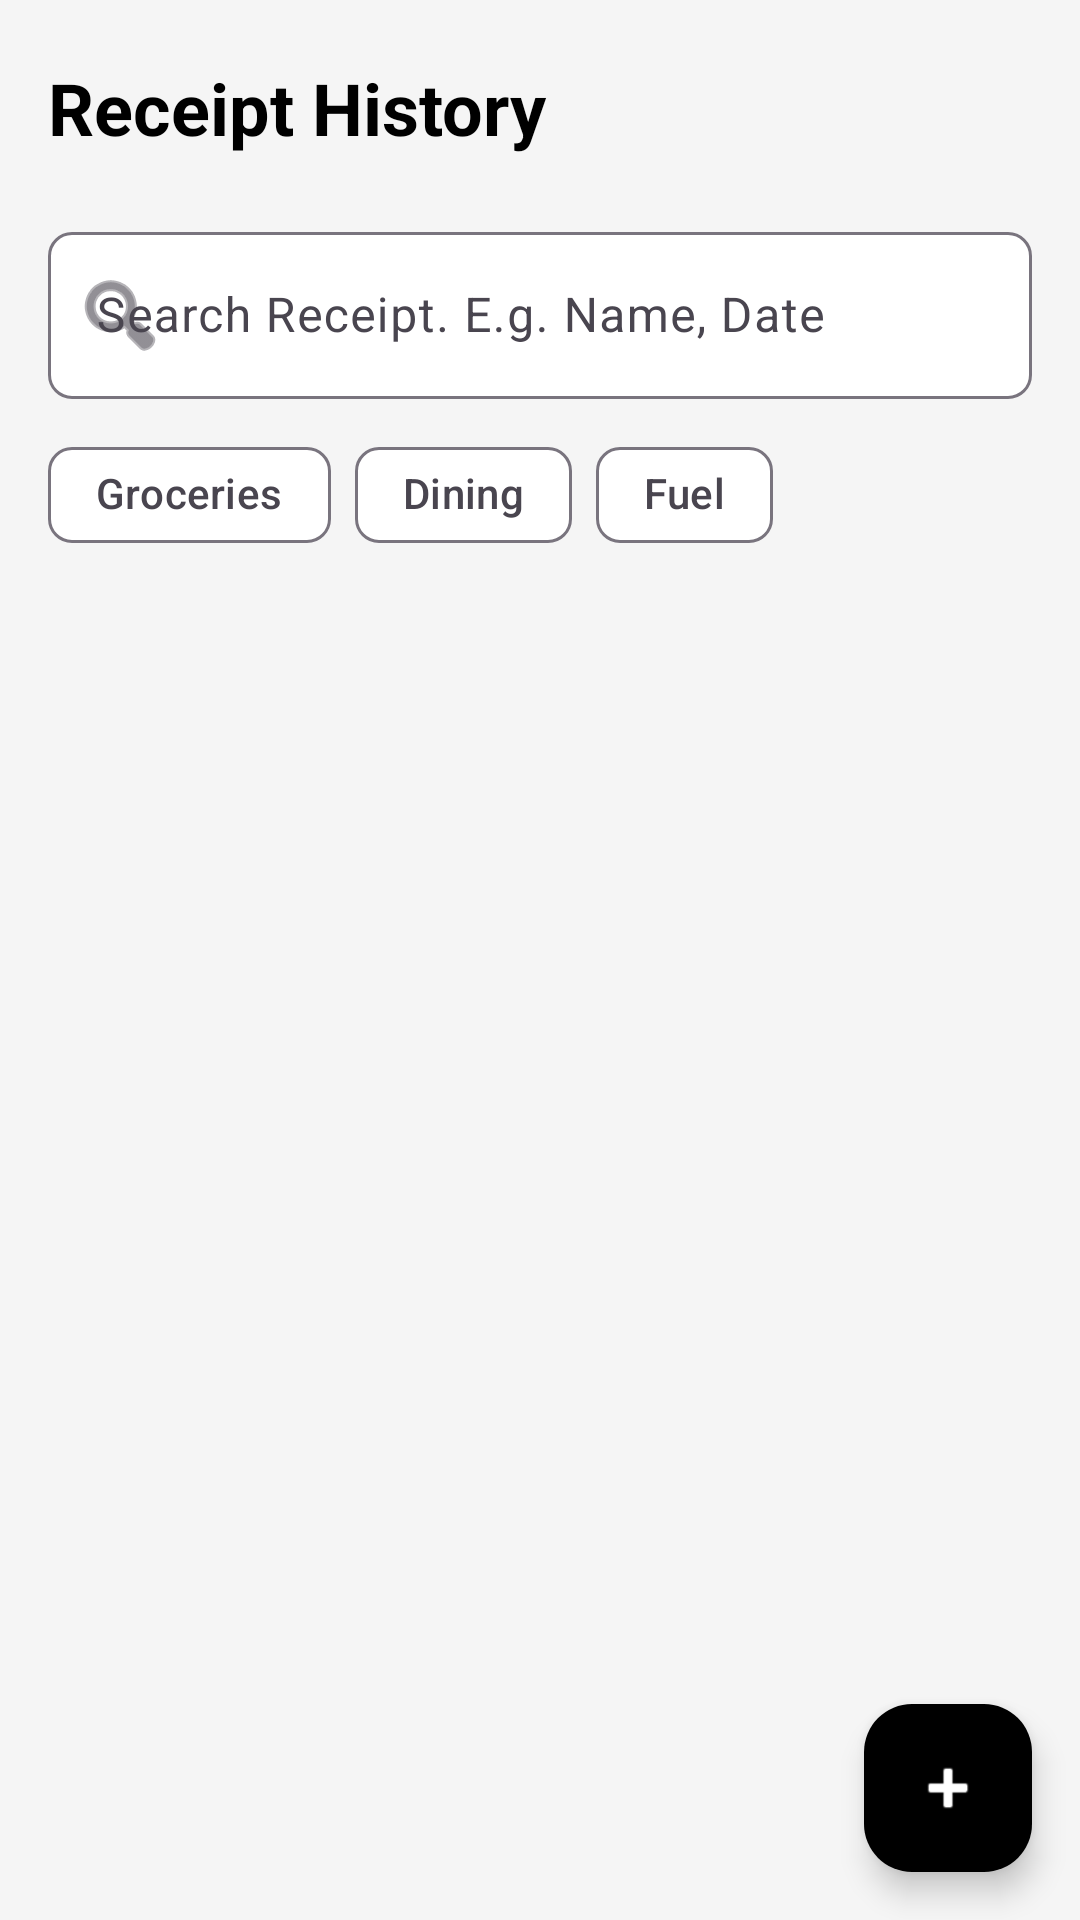

Screen size 1080px x 1920px. Icon name, then its center in pixels as point (x, y):
Add Receipt: point (948, 1788)
